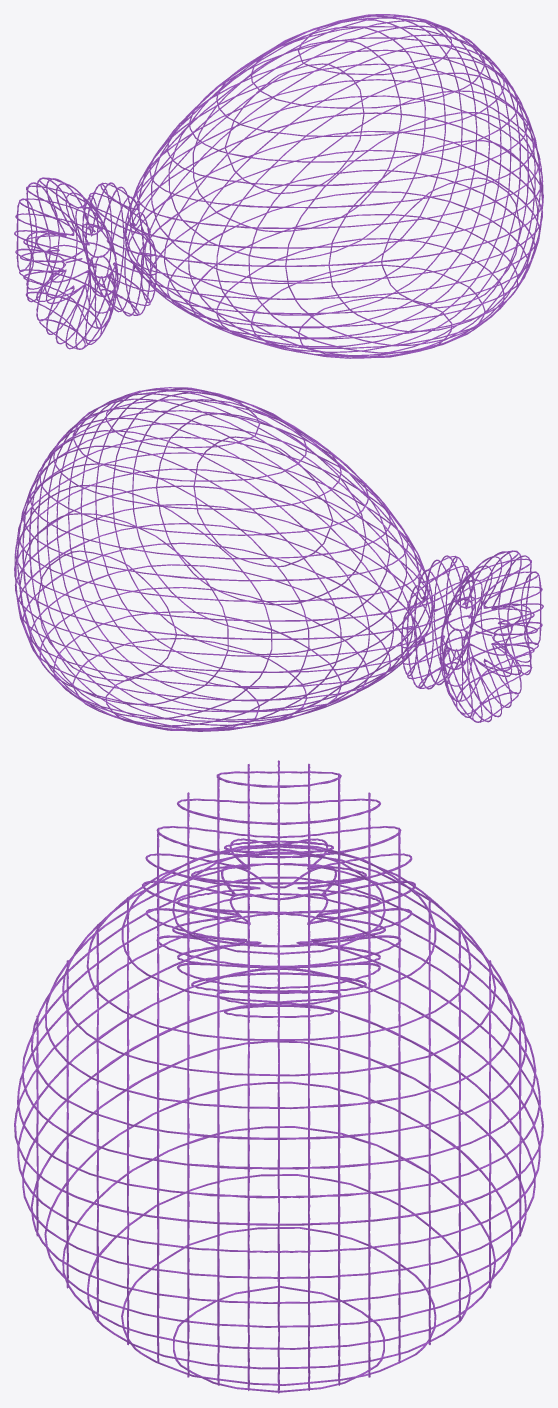
Rendered from directional_pattern_wire.glb.
3 renders of one model, top to bottom at view 1: azimuth 30°, elevation 25°; view 2: azimuth 150°, elevation 25°; view 3: azimuth 270°, elevation 25°, orthographic. The views are drawn at different scales.
Visible parts, largest first — view 1: directional_pattern_wire; view 2: directional_pattern_wire; view 3: directional_pattern_wire.
Boxes of the visible parts, bbox=[...] form: directional_pattern_wire: bbox=[14, 14, 543, 358]; directional_pattern_wire: bbox=[14, 387, 543, 731]; directional_pattern_wire: bbox=[14, 760, 543, 1393].
Size of the model in its own units: 0.7032 by 0.4392 by 0.4392.
